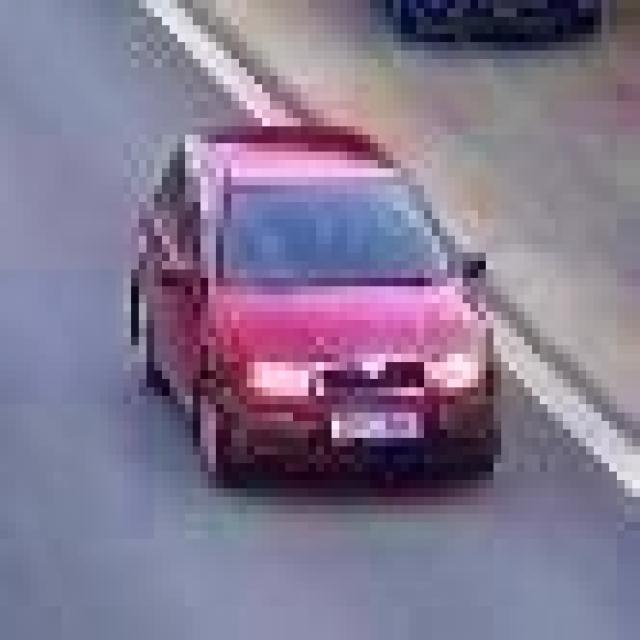maroon: (135, 130, 497, 476)
